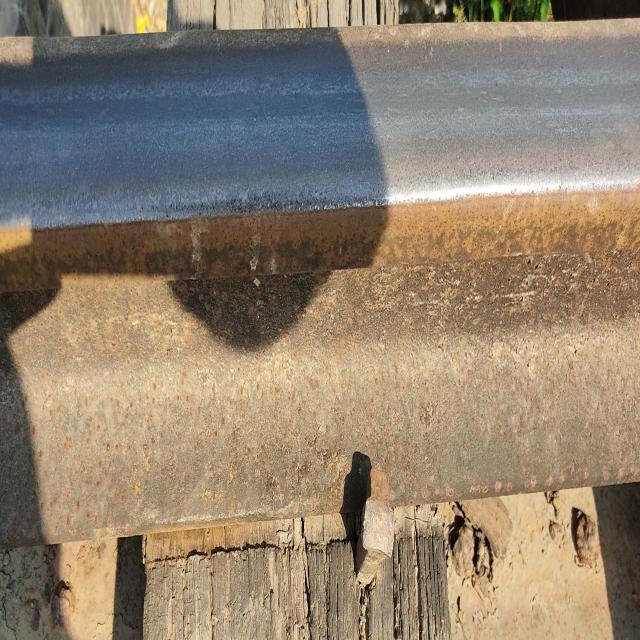Good Fasteners: (355, 469, 394, 586)
